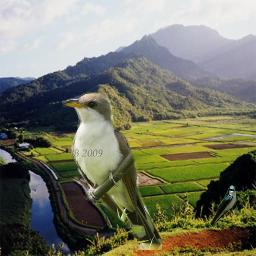Cuckoo: (62, 91, 162, 250)
Swallow: (209, 185, 237, 228)
